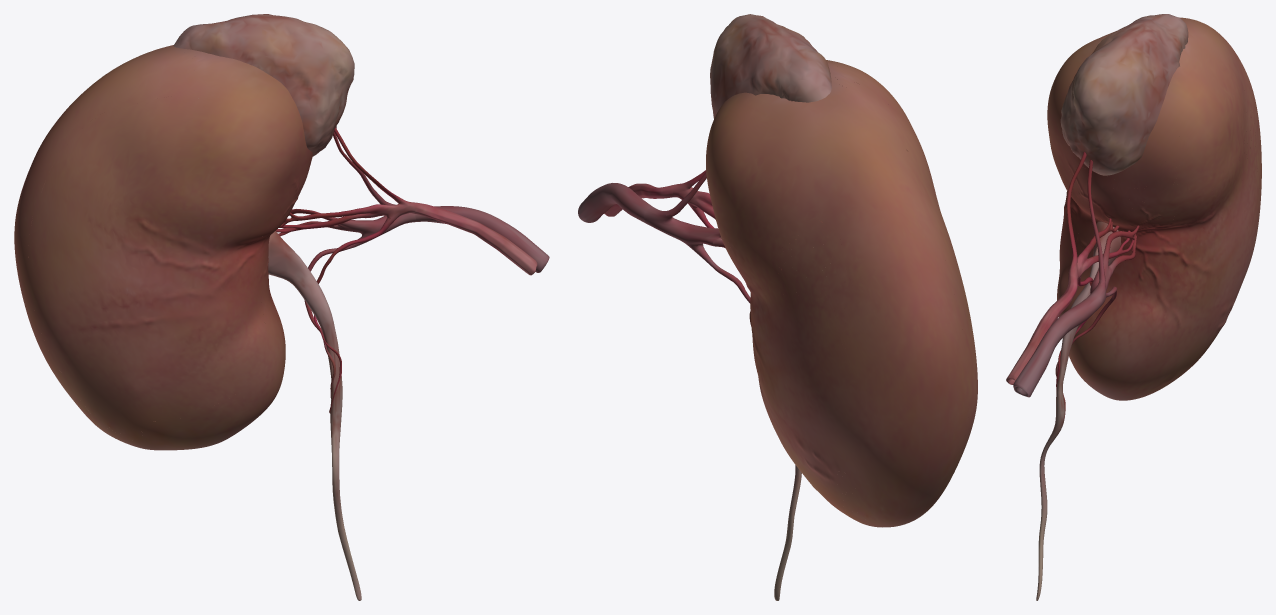
File: rim.glb
3 renders of one model, left to right at view 1: azimuth 30°, elevation 25°; view 2: azimuth 150°, elevation 25°; view 3: azimuth 270°, elevation 25°, orthographic. The views are drawn at different scales.
Parts seen in each view (by area): view 1: Object_13, Object_12, Object_11, Object_9, Object_10, Object_4, Object_3, Object_2, Object_7, Object_8; view 2: Object_12, Object_11, Object_13, Object_4, Object_3, Object_9, Object_2, Object_7, Object_10; view 3: Object_12, Object_11, Object_13, Object_9, Object_4, Object_2, Object_10, Object_3, Object_7.
Part boxes in pixels (box(x1,y1,x2,y2)): Object_13: box(28, 51, 312, 443); Object_12: box(14, 45, 312, 450); Object_11: box(173, 14, 354, 156); Object_9: box(268, 231, 361, 600); Object_10: box(413, 202, 537, 275); Object_4: box(415, 206, 549, 272); Object_3: box(326, 127, 415, 242); Object_2: box(278, 132, 395, 398); Object_7: box(348, 196, 416, 225); Object_8: box(314, 221, 389, 413); Object_12: box(706, 60, 968, 527); Object_11: box(710, 14, 831, 118); Object_13: box(722, 65, 977, 526); Object_4: box(578, 183, 653, 223); Object_3: box(644, 170, 721, 259); Object_9: box(774, 465, 801, 600); Object_2: box(662, 172, 750, 303); Object_7: box(672, 178, 715, 219); Object_10: box(604, 183, 674, 216); Object_12: box(1059, 17, 1261, 400); Object_11: box(1060, 14, 1188, 175); Object_13: box(1047, 51, 1261, 395); Object_9: box(1036, 221, 1121, 600); Object_4: box(1013, 295, 1101, 397); Object_2: box(1055, 159, 1139, 418); Object_10: box(1006, 275, 1077, 384); Object_3: box(1066, 152, 1112, 305); Object_7: box(1068, 246, 1095, 282).
Size of the model in its own units: 3.59 by 4.42 by 1.86.
